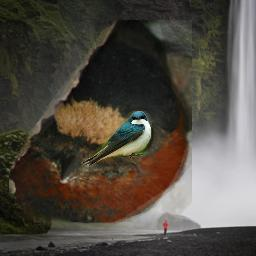Swallow: (9, 20, 192, 228), (81, 111, 152, 167)
